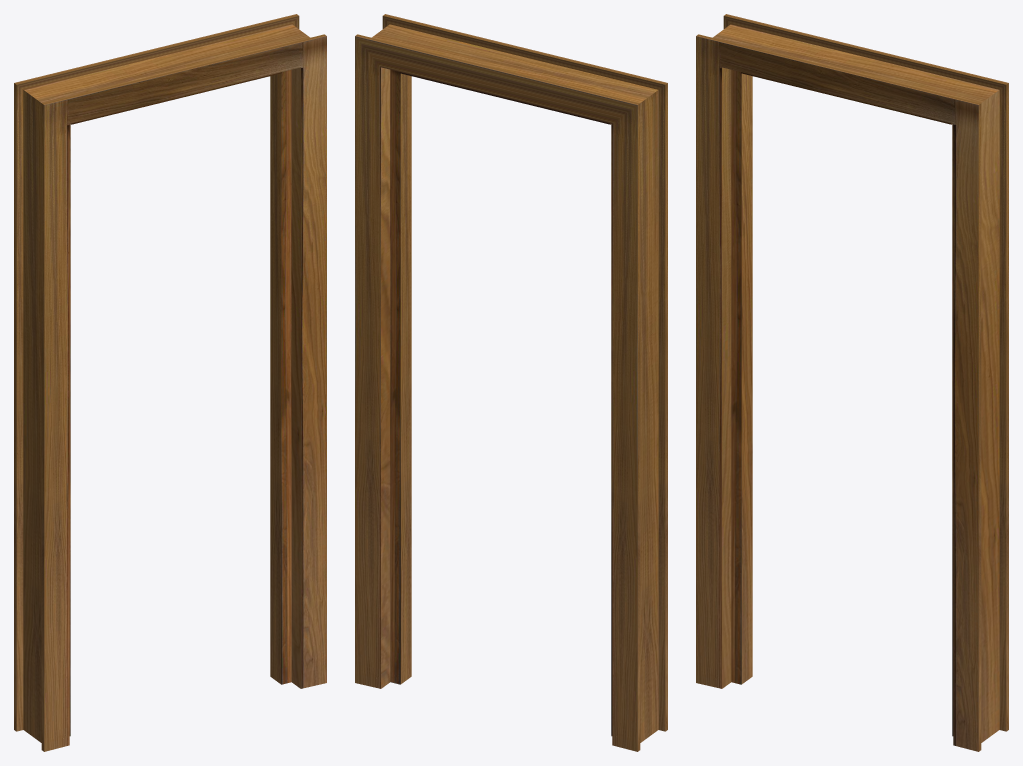
The model's file is 52_LION_Frame.glb.
3 renders of one model, left to right at view 1: azimuth 30°, elevation 25°; view 2: azimuth 150°, elevation 25°; view 3: azimuth 330°, elevation 25°, orthographic.
Parts seen in each view (by area): view 1: 52_LION_Frame; view 2: 52_LION_Frame; view 3: 52_LION_Frame.
Boxes of the visible parts, x1=… form: 52_LION_Frame: x1=14, y1=14, x2=326, y2=751; 52_LION_Frame: x1=355, y1=14, x2=667, y2=751; 52_LION_Frame: x1=696, y1=14, x2=1008, y2=751.
Size of the model in its own units: 1.07 by 2.35 by 0.1988.
Materials: 1 (1 with a texture image).
